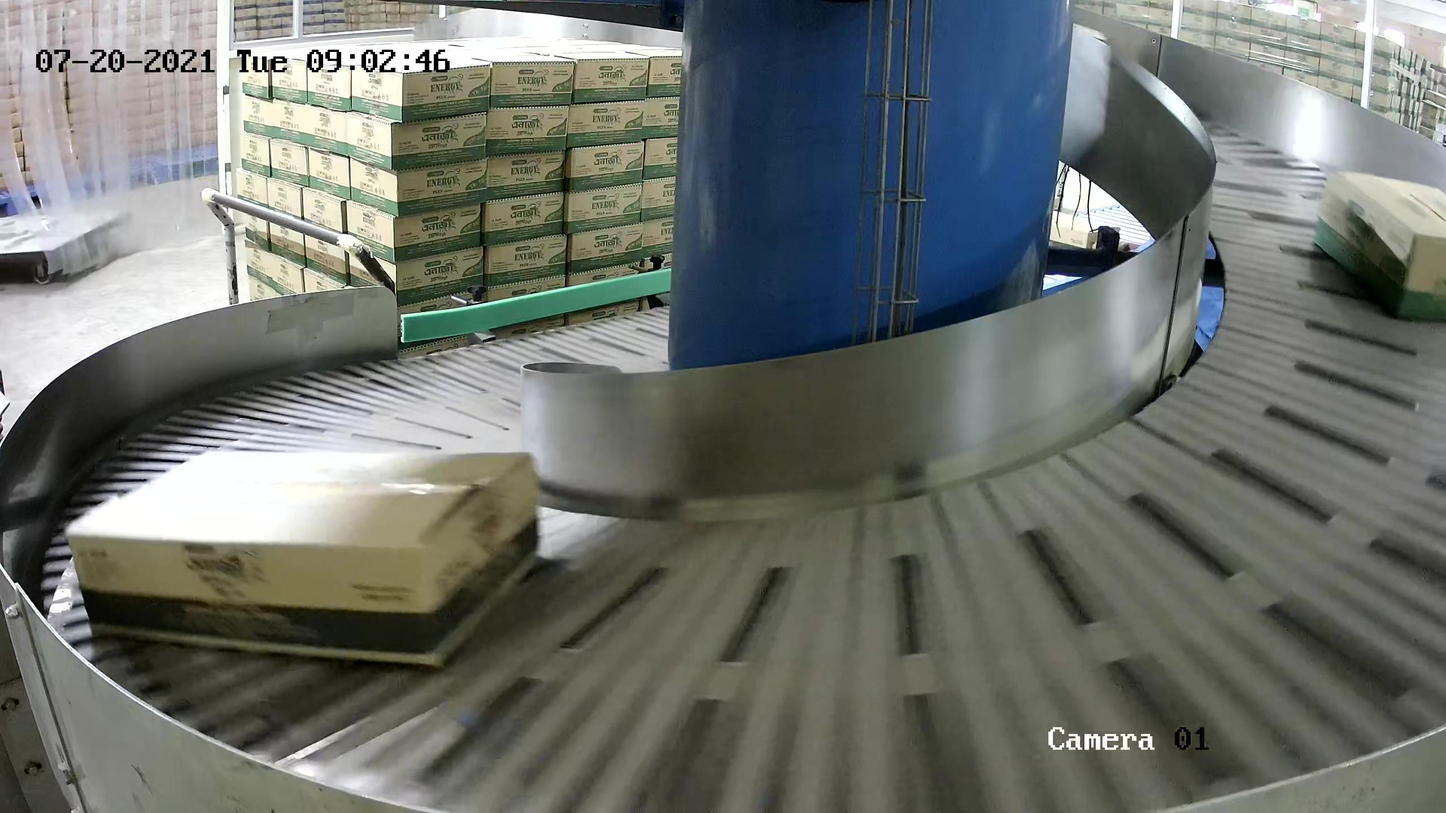Box: (61, 441, 543, 671), (1311, 167, 1446, 324)
